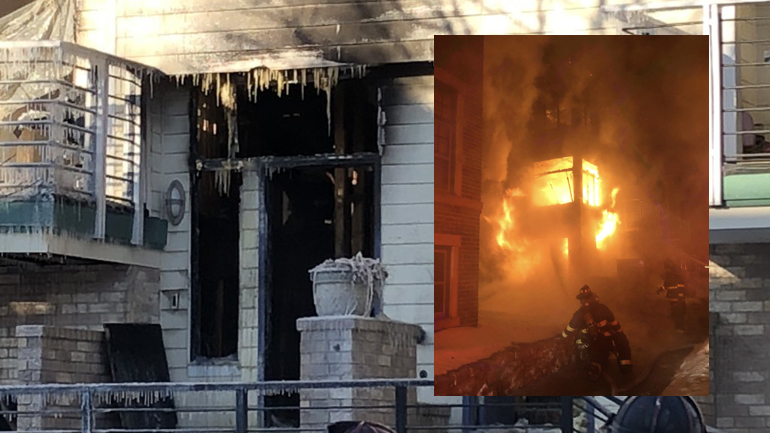Fire: (534, 157, 604, 212), (487, 164, 518, 271), (593, 215, 618, 257)
